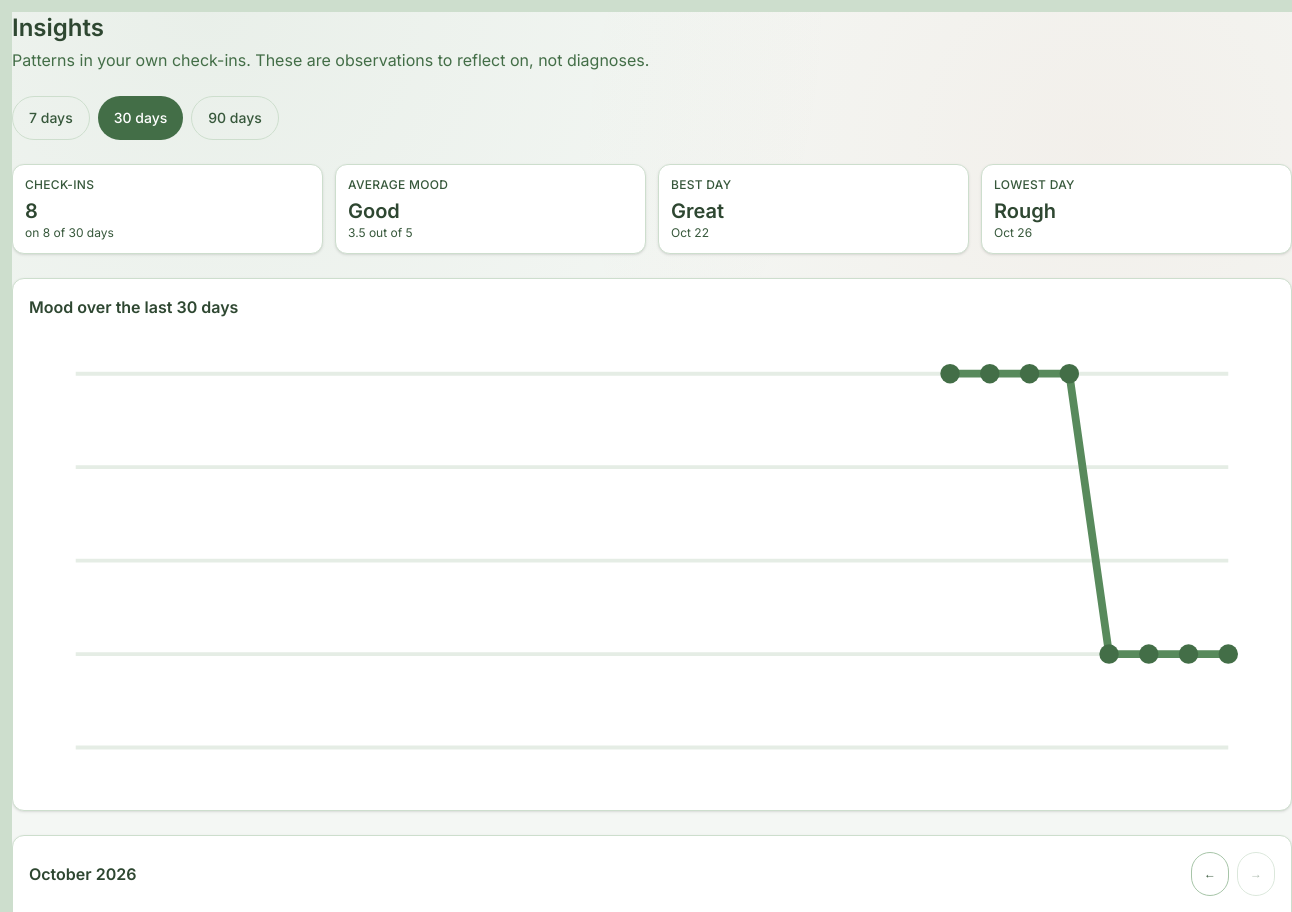
it: Insights page › switches range and says which range it is showing
What coordinates should you click on to do the following:
click the button "7 days"
I would click on:
 (51, 118)
Its box is top-left (12, 96), bottom-right (90, 140).
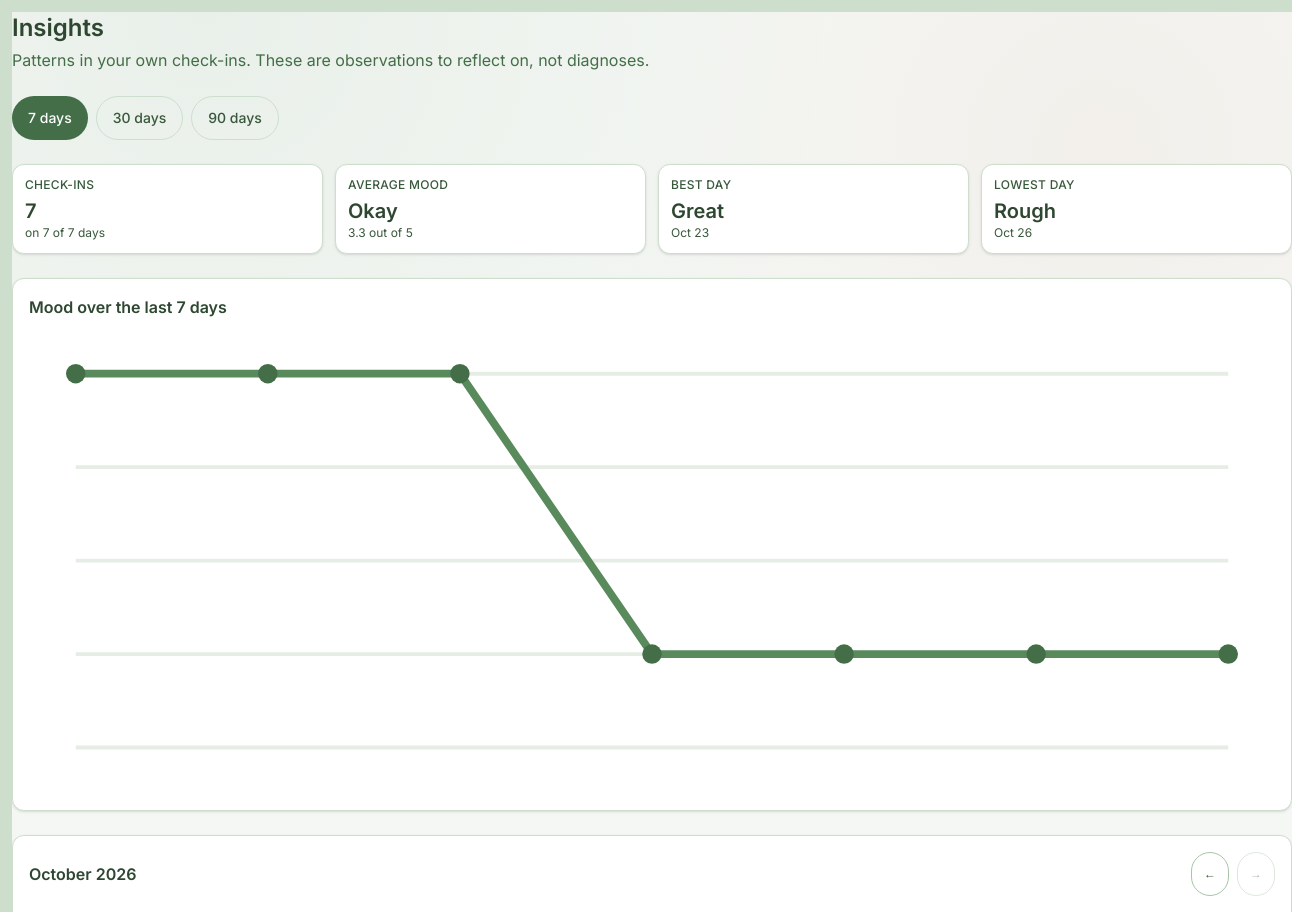
Now the element named "summary, last 7 days" is shown, box top-left (12, 164), bottom-right (1291, 254)
Now the picture named "mood trend over the last 7 days" is shown, box top-left (29, 327), bottom-right (1275, 794)
